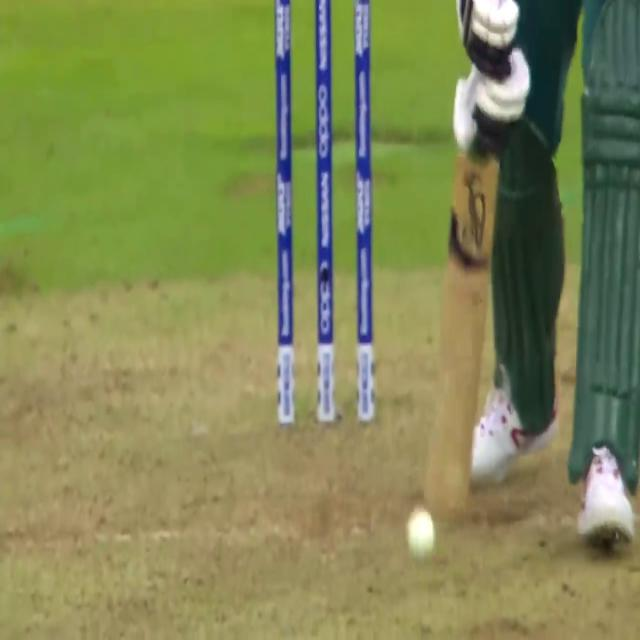ball: (404, 495, 436, 562)
